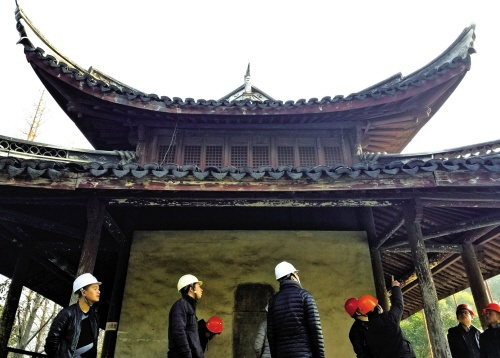red: (357, 293, 383, 318), (454, 302, 475, 324), (482, 302, 500, 324)
white: (71, 268, 102, 305), (272, 259, 302, 290), (176, 272, 205, 303)
